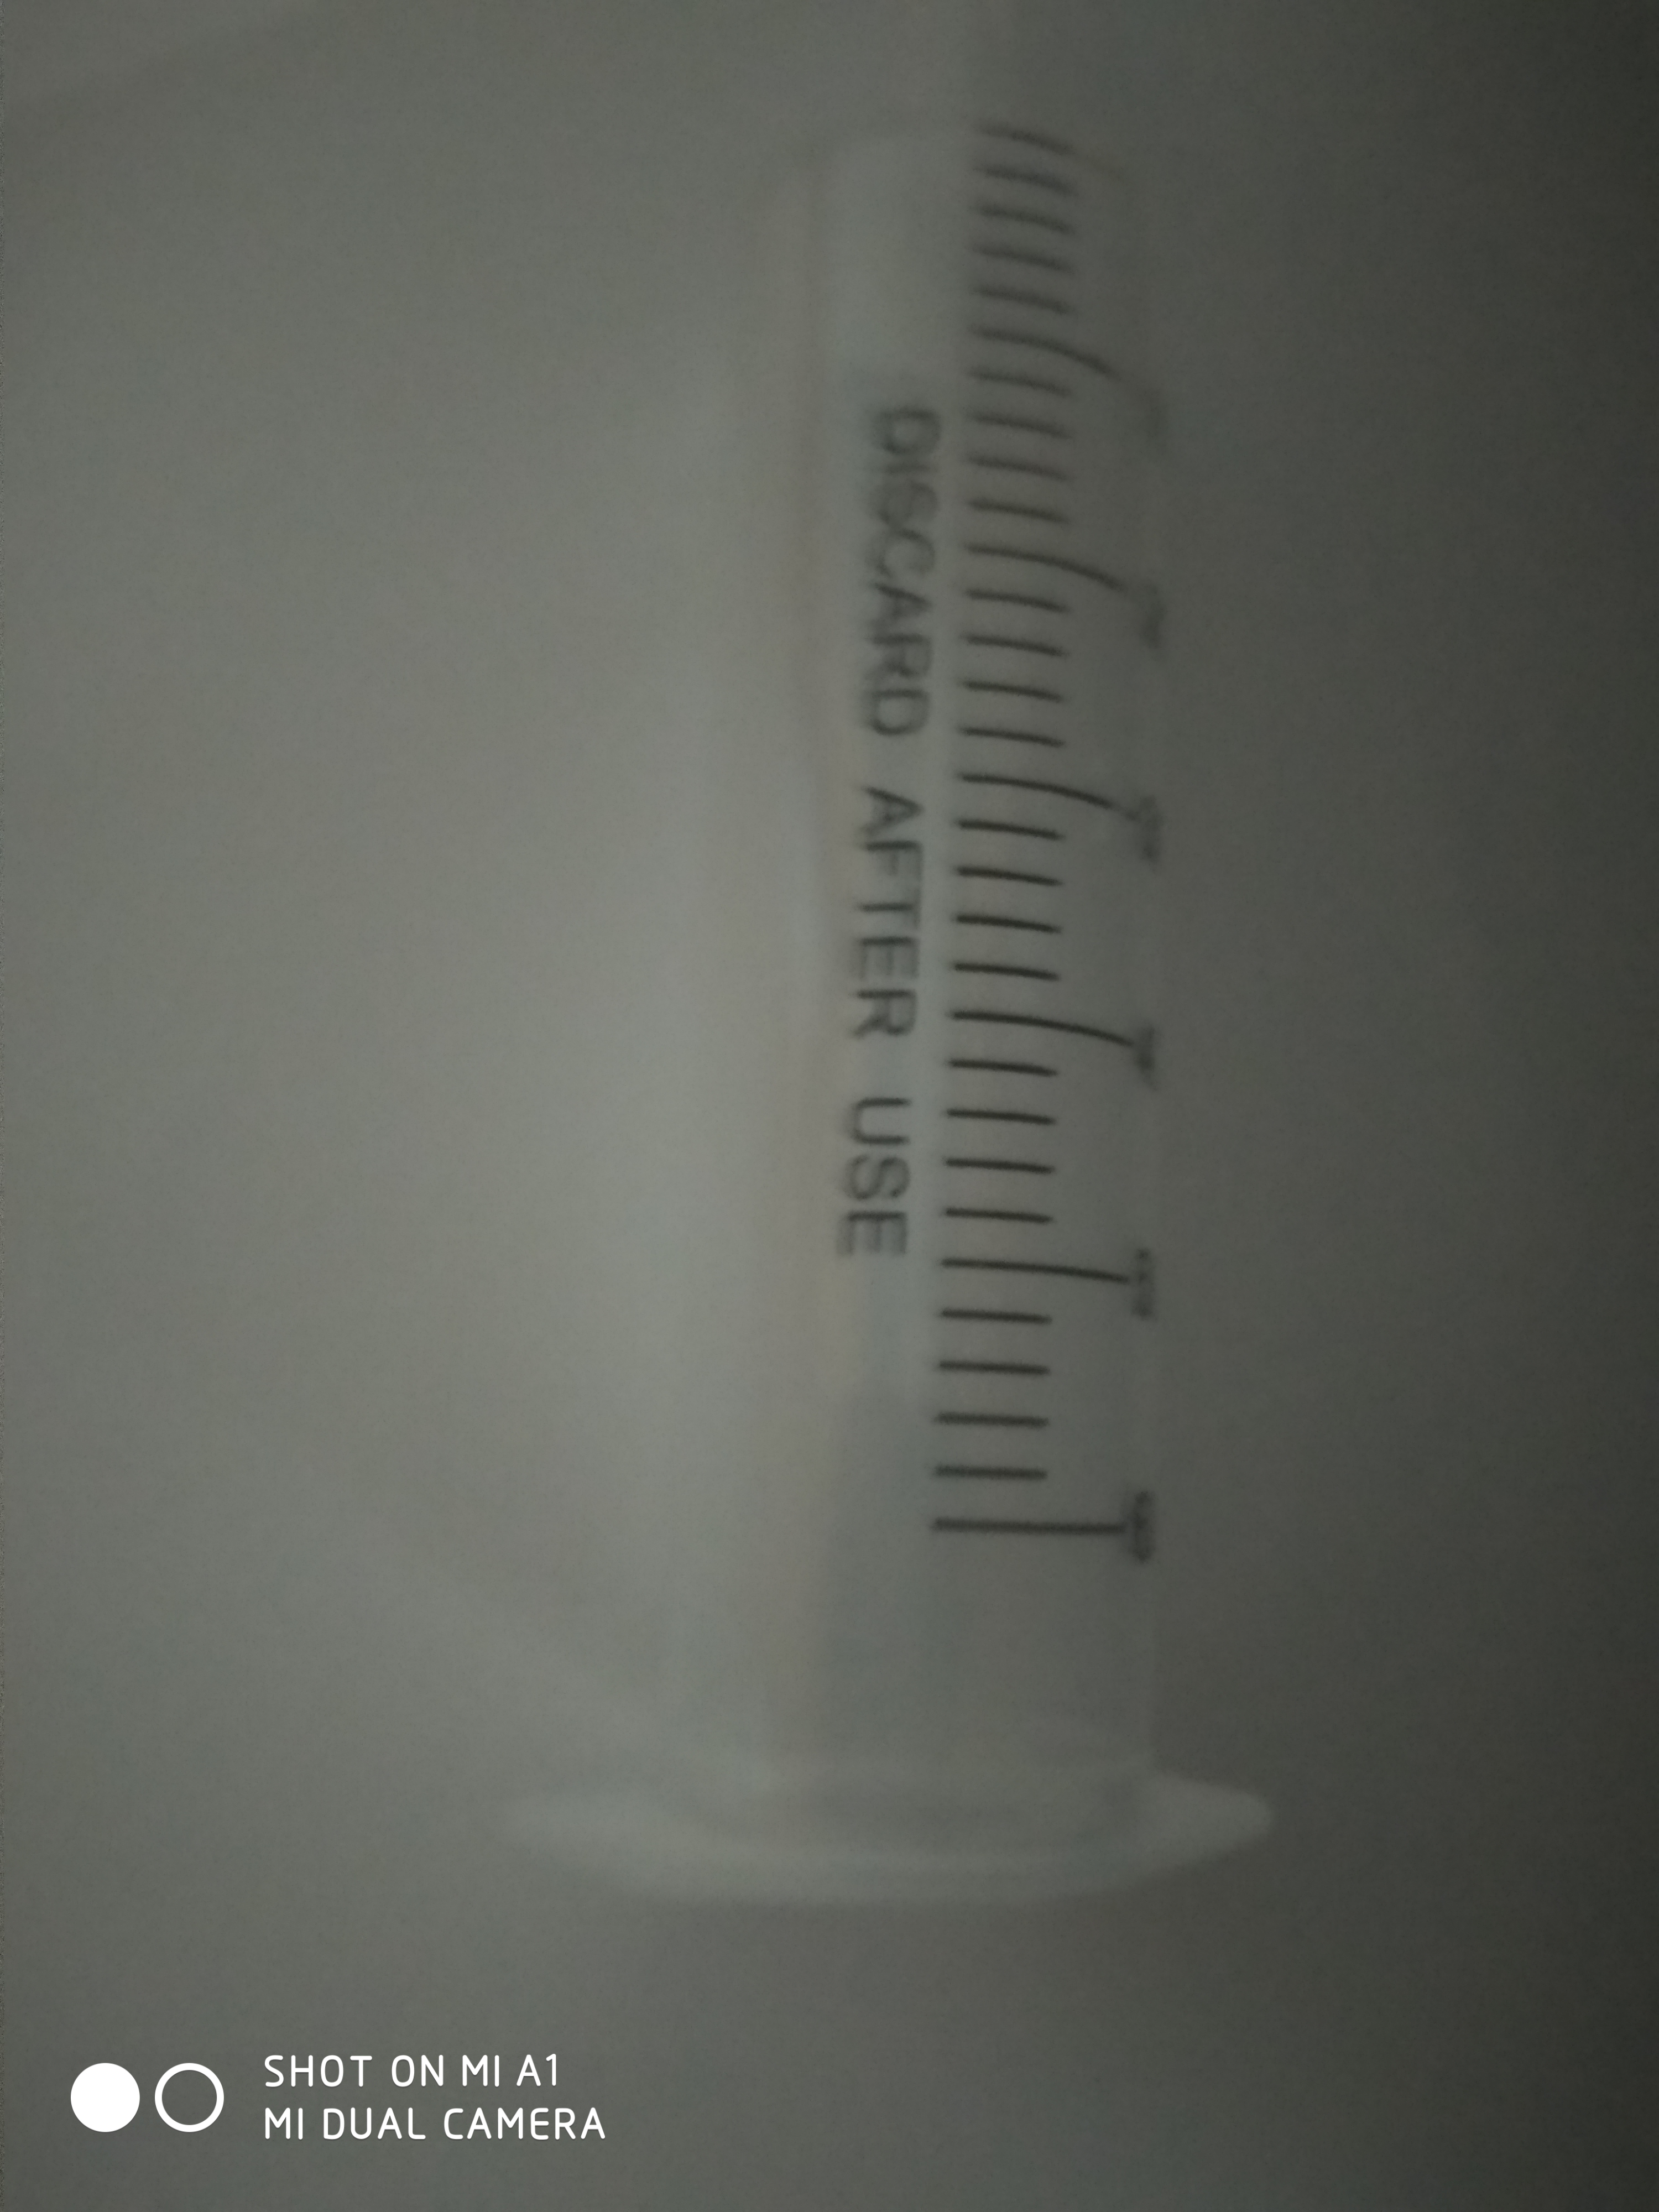syringe: (490, 12, 1288, 1904)
